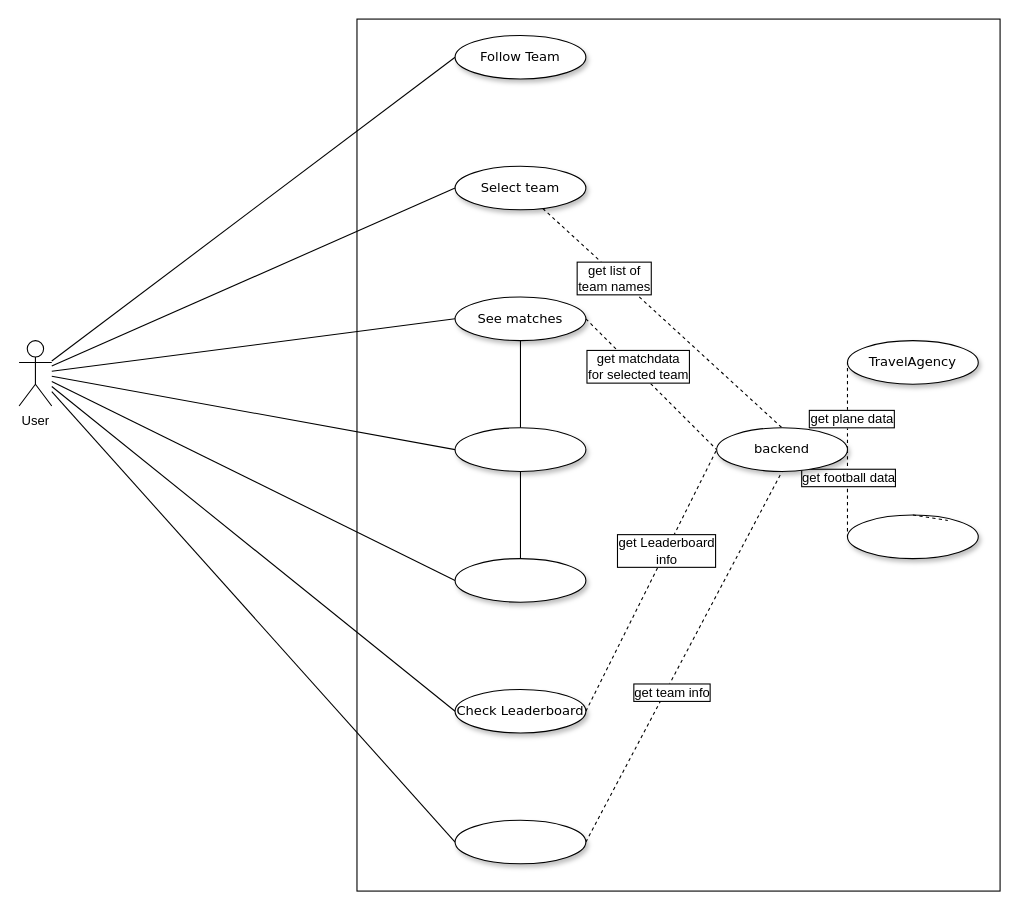
Some shapes in this 1019 by 910 pixel diagram are drawn without their labels. The centre of each missing label's shape, as x and y in pixels:
"Buy ticket to flight" goes at (x=521, y=581).
"Football-API" goes at (x=913, y=538).
"See flights to matches" goes at (x=521, y=450).
"See team info" goes at (x=521, y=843).
